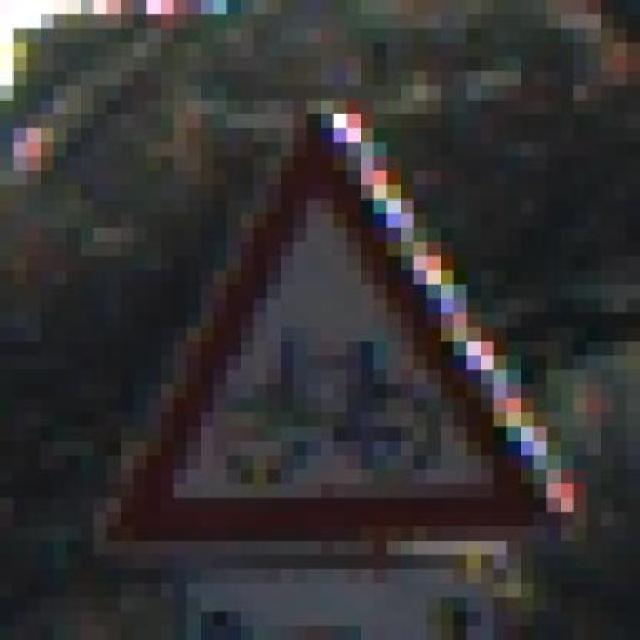CYCLE ROUTE AHEAD WARNING: (80, 71, 574, 569)
